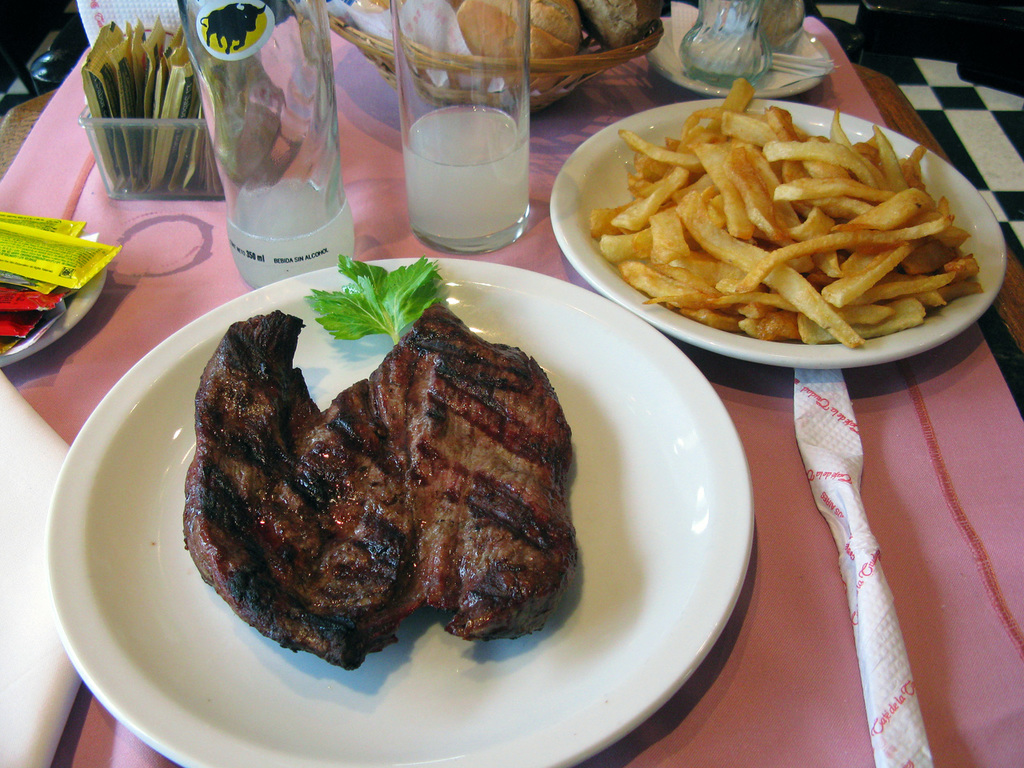French fries: (592, 73, 981, 340)
